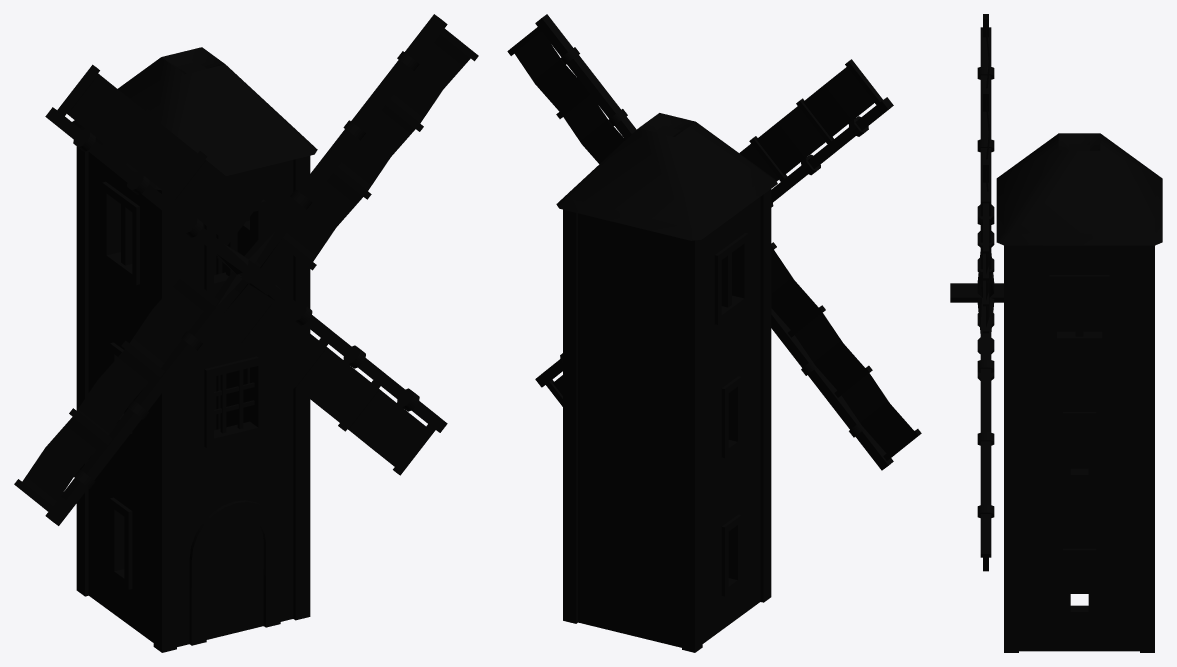
The model's file is house-windmill.glb.
The picture shows the model from 3 angles, left to right: view 1: azimuth 30°, elevation 25°; view 2: azimuth 150°, elevation 25°; view 3: azimuth 270°, elevation 25°; orthographic projection. The views are drawn at different scales.
Parts seen in each view (by area): view 1: wall-window-small; view 2: wall-window-small; view 3: wall-window-small.
Boxes of the visible parts, x1,y1,x2,y2 form: wall-window-small: (14, 14, 478, 652); wall-window-small: (507, 14, 921, 652); wall-window-small: (950, 14, 1162, 652).
Bounding box in the file's own units: 3.11 × 3.96 × 1.41.
1 material, 1 textured.
